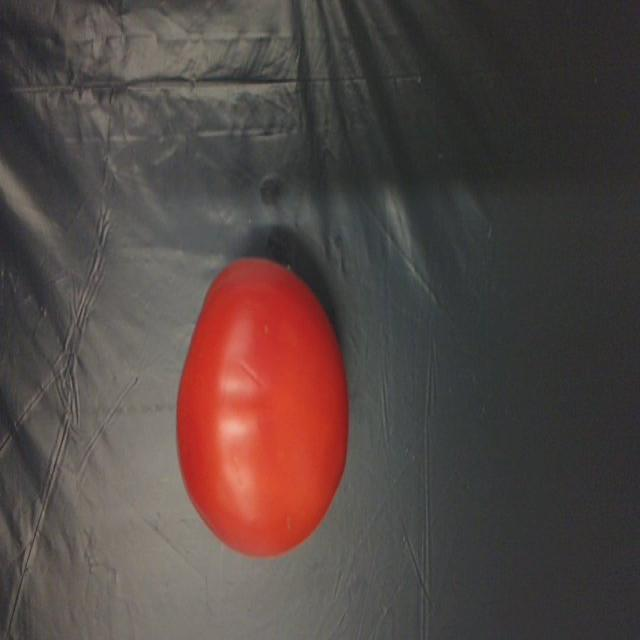kirmizi: (180, 251, 351, 564)
